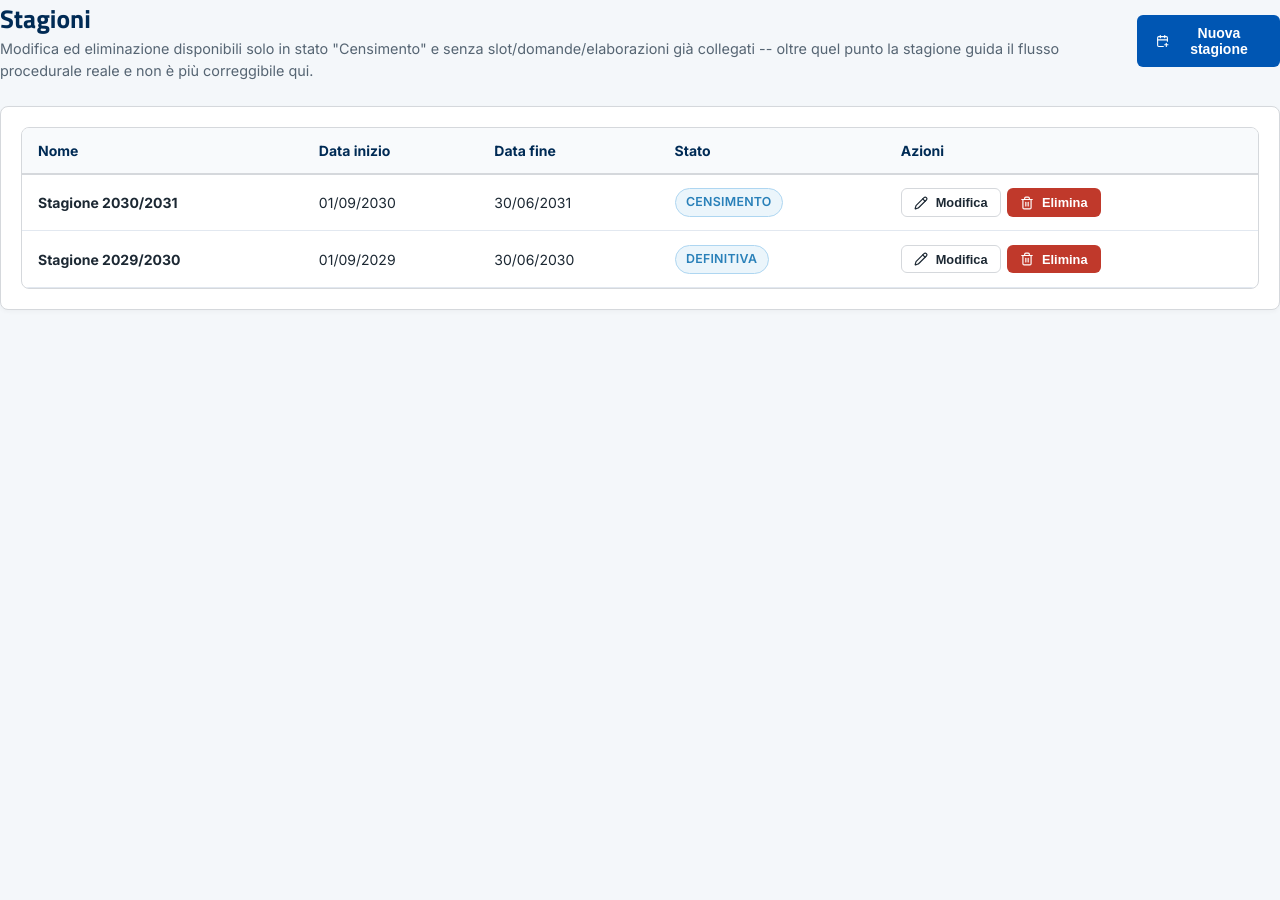
Test case: StagioniView › modifica: 409 dal backend mostrato verbatim
The image size is (1280, 900).
Click the button "Modifica" in the row of "Stagione 2030/2031".
click(951, 202)  # box [901,188,1001,217]
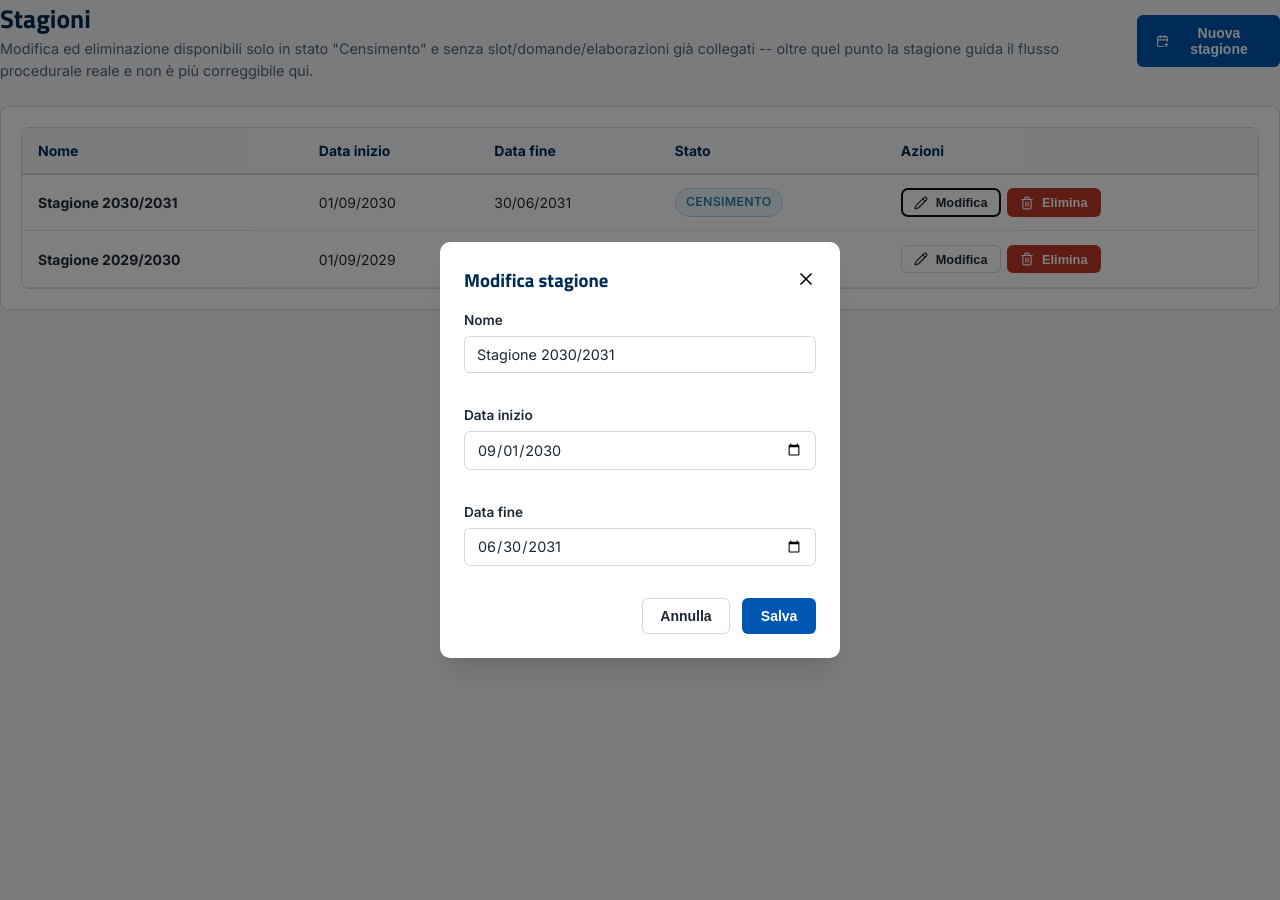
Click the button "Salva".
click(779, 616)  # box [742,598,816,634]
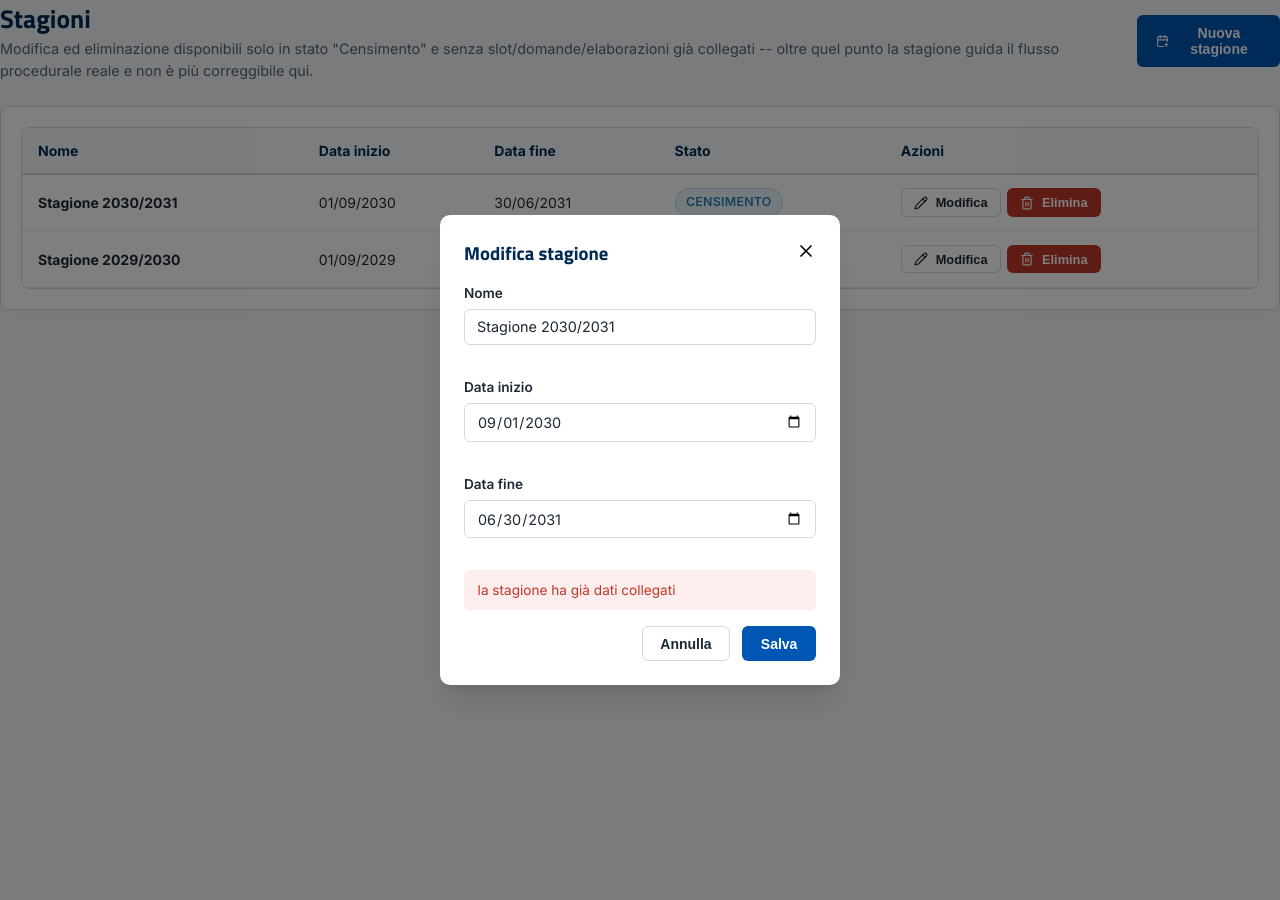
expect the text "la stagione ha già dati collegati" is shown: met, box [464,570,816,610]
